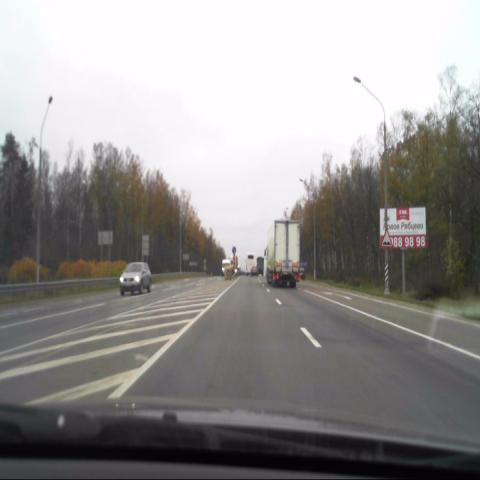1_16: (381, 228, 393, 250)
